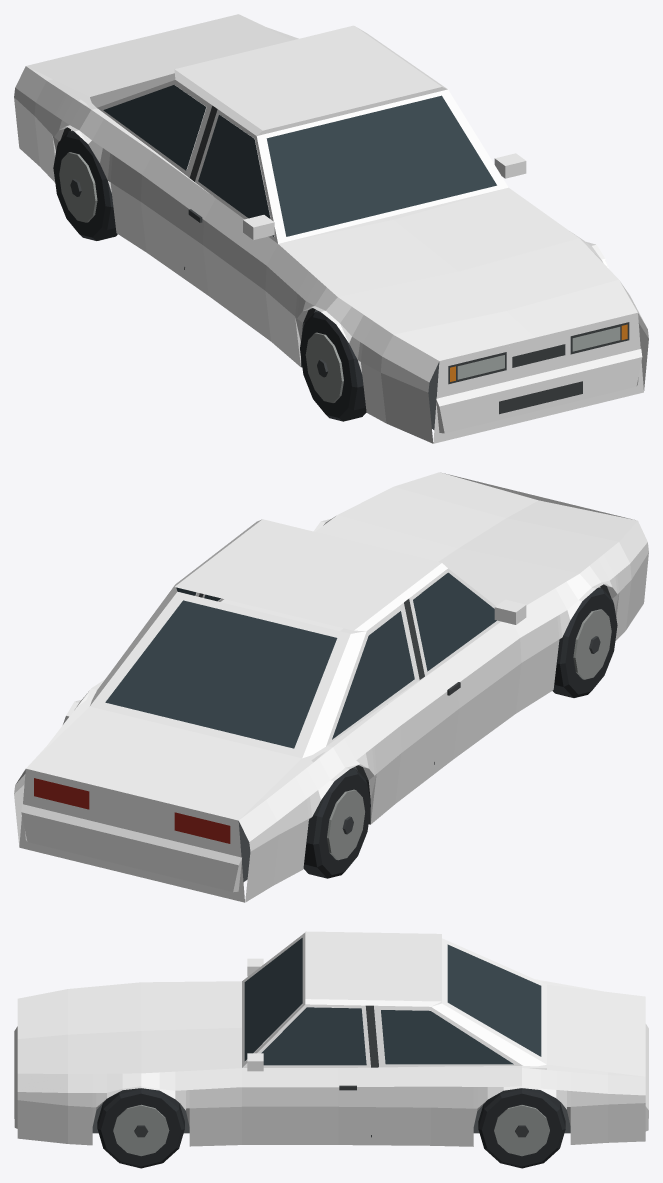
Rendered from kanaya_shijima_r.glb.
3 renders of one model, top to bottom at view 1: azimuth 30°, elevation 25°; view 2: azimuth 150°, elevation 25°; view 3: azimuth 270°, elevation 25°, orthographic. The views are drawn at different scales.
Parts seen in each view (by area): view 1: kanaya_shijima_r; view 2: kanaya_shijima_r; view 3: kanaya_shijima_r.
Boxes of the visible parts, <box> form: kanaya_shijima_r: <box>14,14,648,443</box>; kanaya_shijima_r: <box>14,472,648,902</box>; kanaya_shijima_r: <box>14,931,648,1168</box>.
Size of the model in its own units: 1.82 by 1.26 by 4.7.
Materials: 8 (1 with a texture image).
